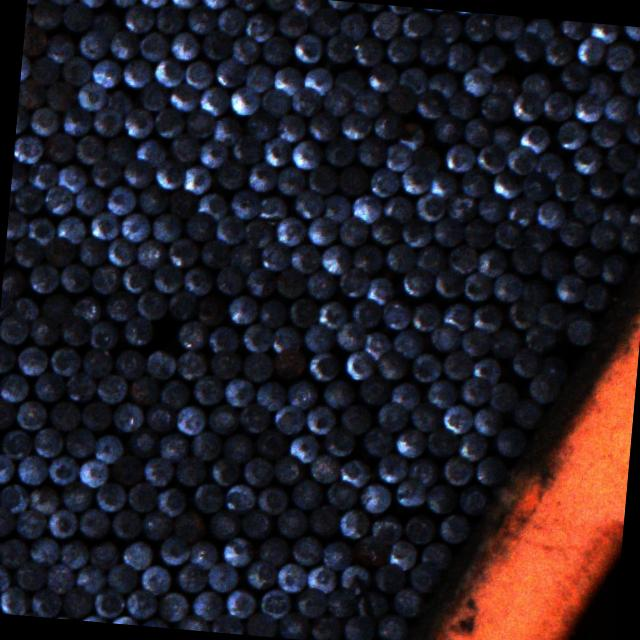tool: (172, 506, 210, 544), (252, 426, 288, 461), (320, 376, 356, 411), (270, 346, 306, 381), (406, 560, 443, 594), (208, 346, 243, 381), (288, 136, 324, 170), (90, 586, 126, 620), (222, 481, 258, 515), (80, 396, 114, 432), (228, 184, 262, 220), (133, 133, 169, 167), (258, 586, 293, 620), (455, 428, 490, 462), (349, 294, 384, 328), (600, 251, 634, 286), (369, 106, 404, 140), (517, 120, 552, 154), (127, 372, 162, 406), (190, 372, 225, 406), (14, 342, 49, 376), (194, 292, 229, 326), (228, 238, 262, 273), (288, 476, 324, 509), (126, 478, 159, 514), (154, 484, 190, 517), (63, 424, 96, 460), (32, 369, 68, 402), (406, 454, 440, 488), (269, 322, 303, 356), (536, 246, 570, 280), (242, 108, 276, 142), (191, 588, 225, 622), (107, 560, 141, 594), (110, 452, 144, 486), (142, 454, 176, 488), (127, 424, 161, 458), (48, 398, 82, 432), (174, 402, 208, 436), (222, 375, 256, 409), (60, 260, 94, 294), (150, 260, 184, 294), (183, 208, 217, 242), (214, 156, 248, 190), (403, 511, 438, 544), (322, 424, 357, 457), (494, 423, 527, 458), (413, 189, 448, 222), (59, 585, 94, 618), (221, 429, 256, 462), (338, 162, 370, 198), (510, 30, 546, 62), (206, 560, 242, 592), (90, 260, 122, 296), (456, 482, 490, 515), (361, 424, 394, 458), (392, 425, 426, 458), (389, 378, 423, 411), (240, 349, 274, 382), (343, 346, 376, 380), (392, 327, 426, 360), (458, 324, 491, 358), (441, 299, 474, 333), (552, 168, 585, 202), (355, 134, 388, 168), (324, 31, 357, 65), (243, 8, 276, 42), (29, 584, 62, 618), (174, 560, 208, 593), (28, 532, 61, 566), (222, 534, 255, 568), (46, 506, 80, 539), (110, 506, 143, 540), (208, 507, 242, 540), (157, 430, 191, 463), (143, 400, 177, 433), (176, 348, 210, 381), (59, 313, 92, 347), (176, 318, 209, 352), (12, 234, 45, 268), (135, 236, 169, 269), (198, 237, 232, 270), (104, 182, 138, 215), (136, 182, 170, 215), (12, 131, 46, 164), (121, 105, 155, 138), (152, 104, 186, 137), (212, 113, 246, 146), (46, 78, 79, 112), (28, 53, 62, 86), (215, 55, 248, 89), (45, 29, 79, 62), (229, 31, 262, 65), (354, 533, 389, 565), (284, 376, 319, 408), (558, 59, 590, 94), (443, 39, 478, 71), (124, 588, 159, 620), (140, 561, 172, 596), (157, 534, 192, 566), (31, 426, 66, 458), (46, 344, 81, 376), (324, 585, 357, 618), (255, 482, 288, 515), (442, 402, 475, 435), (426, 376, 459, 409), (410, 350, 443, 383), (459, 64, 492, 97), (276, 5, 309, 38), (78, 506, 111, 539), (141, 508, 174, 541), (95, 372, 128, 405), (28, 314, 61, 347), (167, 235, 200, 268), (150, 210, 183, 243), (11, 182, 44, 215), (182, 160, 215, 193), (167, 80, 200, 113), (168, 29, 201, 62), (276, 560, 308, 594), (372, 561, 406, 593), (274, 506, 308, 538), (438, 510, 472, 542), (440, 454, 474, 486), (338, 402, 372, 434), (458, 375, 492, 407), (486, 378, 518, 412), (526, 370, 560, 402), (274, 265, 308, 297), (336, 264, 368, 298), (400, 266, 434, 298), (318, 242, 352, 274), (414, 242, 448, 274), (586, 220, 620, 252), (534, 198, 568, 230), (322, 134, 356, 166), (338, 108, 372, 140), (384, 82, 418, 114), (416, 86, 448, 120), (446, 86, 478, 120), (292, 32, 326, 64), (604, 38, 636, 72), (430, 10, 464, 42), (224, 586, 258, 618), (15, 557, 47, 591), (60, 480, 94, 512), (190, 480, 224, 512), (77, 456, 111, 488), (208, 455, 242, 487), (92, 430, 126, 462), (15, 398, 49, 430), (208, 402, 242, 434), (160, 374, 192, 408), (240, 320, 274, 352), (38, 292, 72, 324), (226, 292, 260, 324), (230, 134, 264, 166), (27, 104, 61, 136), (183, 105, 215, 139), (139, 28, 171, 62), (120, 2, 154, 34), (184, 2, 218, 34), (275, 609, 310, 640), (473, 454, 508, 485), (332, 66, 368, 96), (391, 586, 424, 618), (244, 558, 277, 590), (338, 562, 371, 594), (240, 506, 273, 538), (308, 504, 340, 537), (325, 478, 358, 510), (426, 482, 458, 515), (288, 431, 321, 463), (239, 401, 272, 433), (273, 402, 306, 434), (376, 398, 408, 431), (410, 398, 442, 431), (356, 373, 389, 405), (488, 326, 520, 359), (286, 295, 318, 328), (304, 268, 337, 300), (350, 242, 383, 274), (304, 214, 337, 246), (336, 215, 368, 248), (400, 215, 432, 248), (587, 166, 620, 198), (475, 142, 508, 174), (306, 109, 339, 141), (588, 116, 621, 148), (479, 90, 512, 122), (585, 68, 617, 101), (260, 32, 292, 65), (338, 10, 371, 42), (400, 8, 433, 40), (157, 590, 189, 623), (121, 538, 154, 570), (15, 507, 48, 539), (28, 481, 60, 514), (94, 480, 127, 512), (0, 428, 33, 460), (189, 429, 222, 461), (80, 346, 113, 378), (112, 347, 145, 379), (182, 263, 214, 296), (44, 234, 76, 267), (106, 235, 138, 268), (88, 209, 121, 241), (119, 210, 151, 243), (213, 212, 245, 245), (166, 186, 198, 219), (196, 188, 228, 221), (56, 162, 89, 194), (89, 156, 122, 188), (121, 157, 154, 189), (153, 156, 185, 189), (73, 132, 106, 164), (168, 130, 200, 163), (198, 84, 231, 116), (228, 83, 261, 115), (91, 56, 124, 88), (152, 56, 185, 88), (61, 1, 93, 34), (90, 5, 122, 38), (154, 1, 186, 34), (293, 586, 327, 617), (375, 348, 409, 379), (522, 321, 556, 352), (292, 186, 326, 217), (256, 86, 290, 117), (102, 83, 136, 114), (336, 456, 371, 486), (471, 301, 506, 331), (563, 316, 598, 346), (518, 70, 553, 100), (383, 34, 418, 64), (258, 534, 290, 566), (290, 532, 322, 564), (320, 538, 352, 570), (386, 538, 418, 570), (338, 506, 370, 538), (370, 511, 402, 543), (359, 481, 391, 513), (308, 451, 340, 483), (376, 452, 408, 484), (440, 348, 472, 380), (510, 344, 542, 376), (316, 298, 348, 330), (410, 300, 442, 332), (506, 296, 538, 328), (491, 270, 523, 302), (288, 242, 320, 274), (384, 240, 416, 272), (446, 242, 478, 274), (476, 245, 508, 277), (273, 214, 305, 246), (432, 214, 464, 246), (381, 192, 413, 224), (306, 162, 338, 194), (368, 165, 400, 197), (443, 140, 475, 172), (536, 149, 568, 181), (572, 142, 604, 174), (274, 110, 306, 142), (430, 112, 462, 144), (556, 118, 588, 150), (351, 86, 383, 118), (511, 89, 543, 121), (272, 64, 304, 96), (574, 34, 606, 66), (58, 536, 90, 568), (88, 536, 120, 568), (16, 453, 48, 485), (46, 454, 78, 486), (175, 454, 207, 486), (112, 400, 144, 432), (144, 347, 176, 379), (72, 292, 104, 324), (104, 288, 136, 320), (27, 261, 59, 293), (214, 264, 246, 296), (104, 134, 136, 166), (62, 104, 94, 136), (61, 54, 93, 86), (122, 56, 154, 88), (184, 56, 216, 88), (108, 27, 140, 59), (305, 351, 338, 382), (462, 216, 495, 247), (17, 76, 48, 109), (512, 398, 546, 428), (335, 318, 365, 352), (459, 167, 493, 197), (462, 113, 492, 147), (74, 562, 108, 592), (0, 534, 30, 568), (54, 214, 88, 244), (72, 185, 106, 215), (242, 610, 278, 638), (354, 590, 390, 618), (306, 562, 338, 593), (394, 475, 426, 506), (241, 454, 273, 485), (272, 454, 304, 485), (253, 379, 285, 410), (257, 296, 288, 328), (582, 280, 613, 312), (494, 216, 525, 248), (557, 216, 588, 248), (321, 190, 352, 222), (398, 162, 429, 194), (384, 140, 415, 172), (321, 85, 353, 116), (573, 90, 604, 122), (352, 34, 383, 66), (65, 372, 96, 404), (88, 317, 119, 349), (122, 314, 154, 345), (208, 322, 239, 354), (136, 289, 168, 320), (121, 261, 152, 293), (76, 235, 108, 266), (44, 130, 75, 162), (197, 136, 228, 168), (92, 105, 124, 136), (216, 4, 247, 36), (428, 321, 461, 351), (462, 269, 492, 302), (258, 240, 291, 270), (368, 214, 401, 244), (288, 86, 321, 116), (243, 59, 273, 92), (301, 64, 334, 94), (427, 68, 460, 98), (475, 42, 508, 72), (308, 6, 341, 36), (136, 80, 169, 110), (77, 28, 110, 58), (382, 297, 411, 331), (475, 191, 506, 222), (371, 9, 402, 40), (426, 426, 456, 458), (304, 404, 336, 434), (472, 403, 502, 435), (540, 353, 570, 385), (302, 322, 334, 352), (508, 243, 538, 275), (572, 244, 602, 276), (242, 218, 274, 248), (506, 195, 536, 227), (569, 192, 601, 222), (246, 160, 276, 192), (491, 168, 523, 198), (522, 170, 554, 200), (506, 144, 536, 176), (604, 142, 636, 172), (540, 90, 572, 120), (544, 34, 574, 66), (45, 562, 75, 594), (166, 290, 198, 320), (200, 27, 230, 59), (374, 611, 407, 640), (421, 540, 454, 569), (30, 0, 63, 29), (307, 612, 341, 640), (340, 612, 374, 640), (398, 118, 426, 152), (244, 266, 275, 296), (364, 273, 395, 303), (521, 276, 552, 306), (554, 272, 585, 302), (523, 222, 554, 252), (350, 190, 381, 220), (367, 61, 398, 91), (397, 64, 428, 94), (0, 584, 30, 615), (44, 184, 74, 215), (27, 158, 58, 188), (262, 134, 291, 166), (418, 33, 447, 65), (0, 313, 29, 345), (470, 354, 500, 384), (362, 328, 392, 358), (434, 266, 464, 296), (259, 192, 289, 222), (446, 192, 476, 222), (188, 538, 218, 568), (26, 214, 56, 244), (77, 80, 107, 110), (274, 164, 305, 193), (464, 12, 495, 41), (0, 481, 29, 512), (429, 168, 459, 197), (0, 371, 28, 402), (523, 16, 559, 40), (1, 264, 28, 296), (412, 144, 442, 172), (604, 92, 634, 120), (538, 299, 566, 328), (490, 70, 519, 98), (11, 294, 40, 322), (6, 208, 30, 241), (600, 200, 628, 228), (490, 122, 518, 150), (492, 14, 522, 40), (22, 24, 46, 56), (618, 63, 640, 97), (210, 612, 244, 634), (619, 166, 640, 199), (176, 612, 210, 632), (588, 22, 620, 43), (619, 221, 640, 252), (558, 20, 590, 40), (566, 304, 594, 326), (0, 342, 18, 374), (623, 111, 640, 143), (0, 504, 17, 536), (0, 396, 16, 429), (10, 160, 27, 191), (0, 452, 15, 484), (15, 103, 29, 134), (290, 0, 320, 14), (231, 0, 266, 12), (0, 288, 12, 319), (628, 201, 640, 231), (0, 561, 12, 591), (137, 0, 170, 9), (264, 0, 292, 10), (201, 0, 231, 9), (623, 25, 640, 40), (75, 0, 109, 7), (168, 0, 201, 7), (634, 144, 640, 175), (107, 0, 138, 6), (634, 89, 640, 119)
void: (148, 314, 184, 352)
